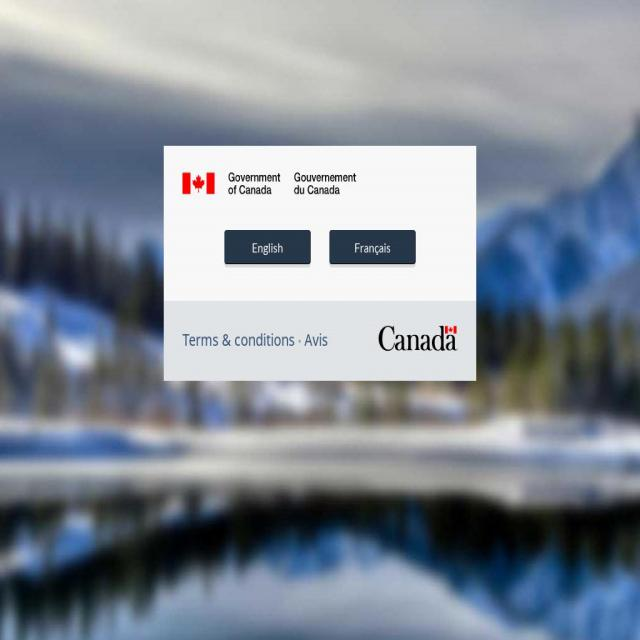language: (221, 217, 425, 273)
